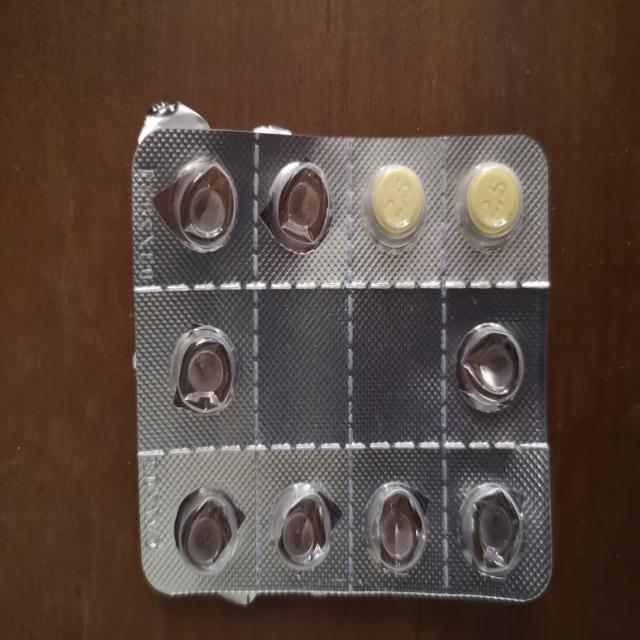Empty: (150, 151, 242, 260), (160, 318, 242, 428), (450, 312, 529, 424), (260, 155, 342, 258), (356, 466, 429, 578), (163, 479, 242, 578), (457, 475, 524, 583), (268, 482, 340, 578)
Pill: (452, 150, 530, 254), (360, 154, 429, 252)
